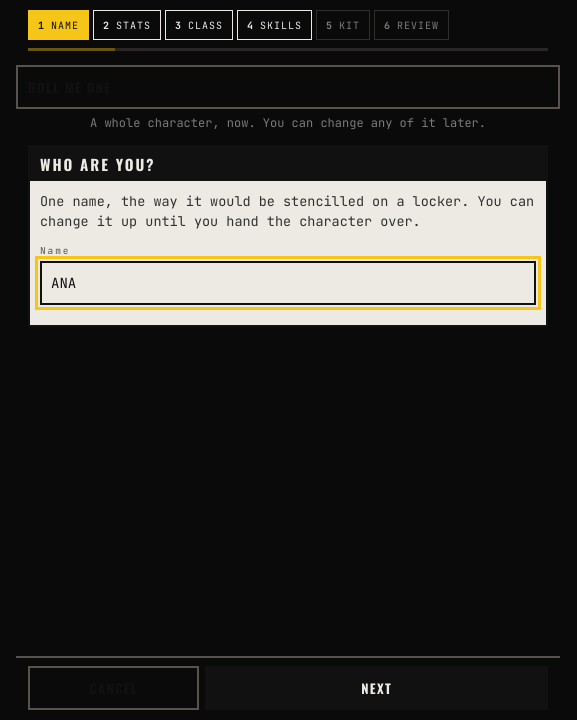
Test: building a character on a phone › lets you step back through the crumb rail but not skip ahead
Click the button "Next" at (377, 688), box [205,666,548,710]
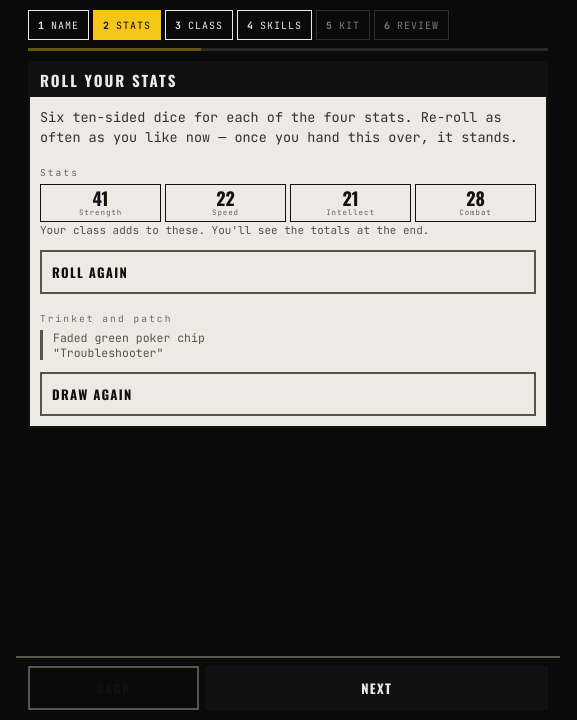
Expected: the button "5 Kit" is disabled, [316,10,370,40]
Click the button "1 Name" at (58, 25), box [28,10,89,40]
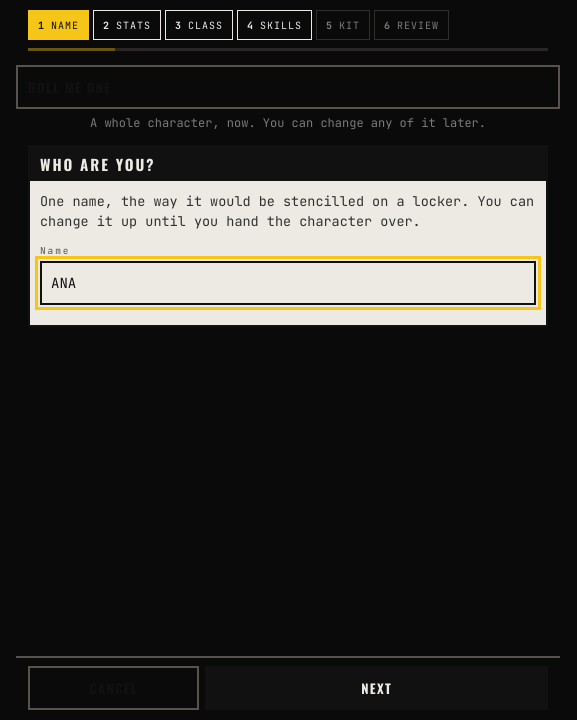
Result: the field labelled "Name" is shown at [40,260,536,304]
